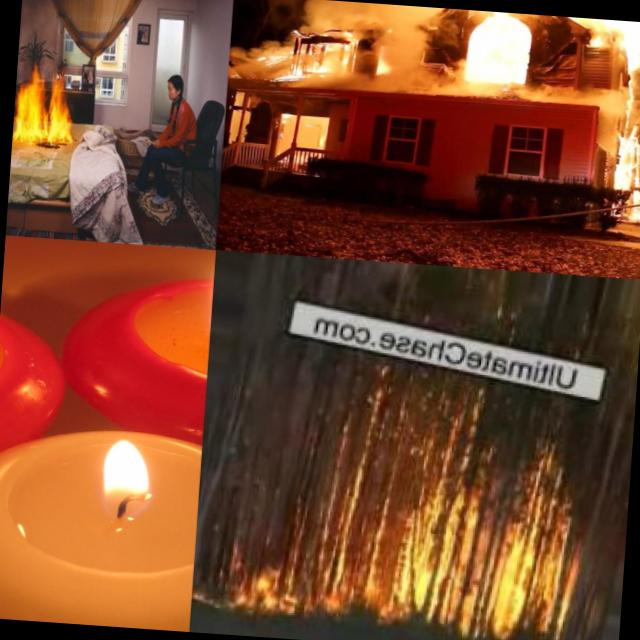fire: (227, 438, 586, 637), (87, 422, 171, 509), (11, 64, 78, 150), (611, 132, 640, 200), (618, 20, 640, 76)
smoke: (425, 62, 635, 120), (299, 0, 481, 37), (361, 30, 430, 100)
